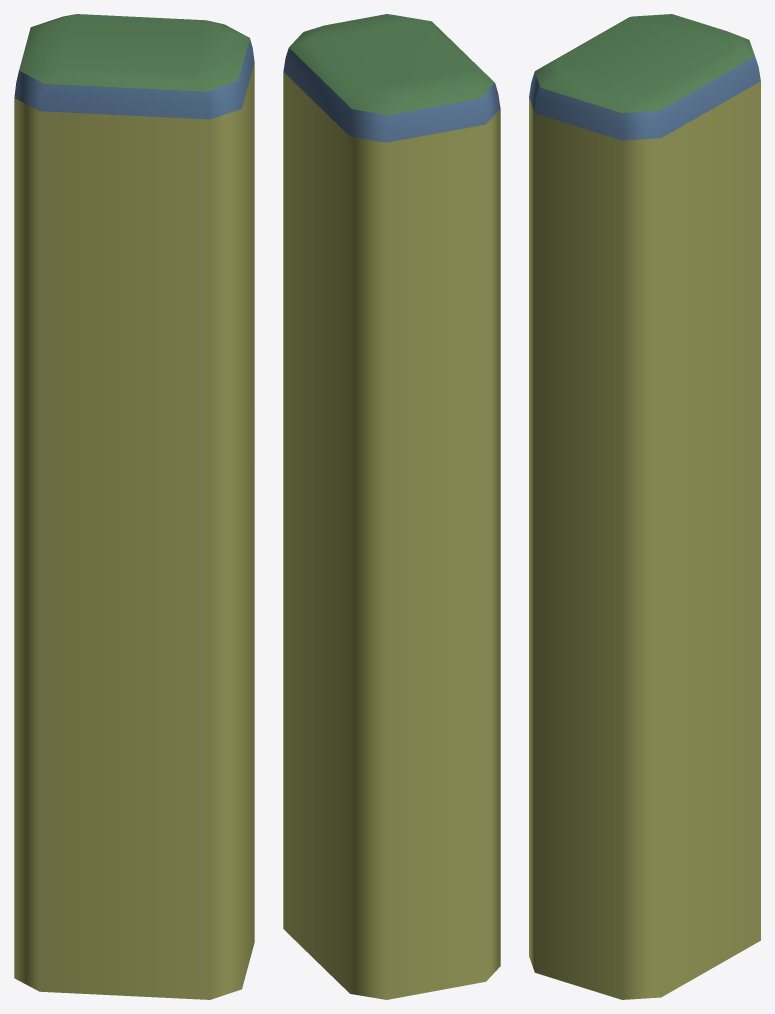
The model's file is PLat_Final.fbx.
3 renders of one model, left to right at view 1: azimuth 30°, elevation 25°; view 2: azimuth 150°, elevation 25°; view 3: azimuth 270°, elevation 25°, orthographic. The views are drawn at different scales.
Parts seen in each view (by area): view 1: PLat_Final, Ground14, Wall12; view 2: PLat_Final, Ground14, Wall12; view 3: PLat_Final, Ground14, Wall12.
Boxes of the visible parts, x1,y1,x2,y2 form: PLat_Final: (14,63,254,999); Ground14: (19,14,249,91); Wall12: (14,38,254,119); PLat_Final: (283,72,500,999); Ground14: (289,14,494,115); Wall12: (283,48,500,142); PLat_Final: (529,81,760,999); Ground14: (535,14,754,112); Wall12: (529,56,760,140).
Bounding box in the file's own units: 4033 × 16294 × 3829.
